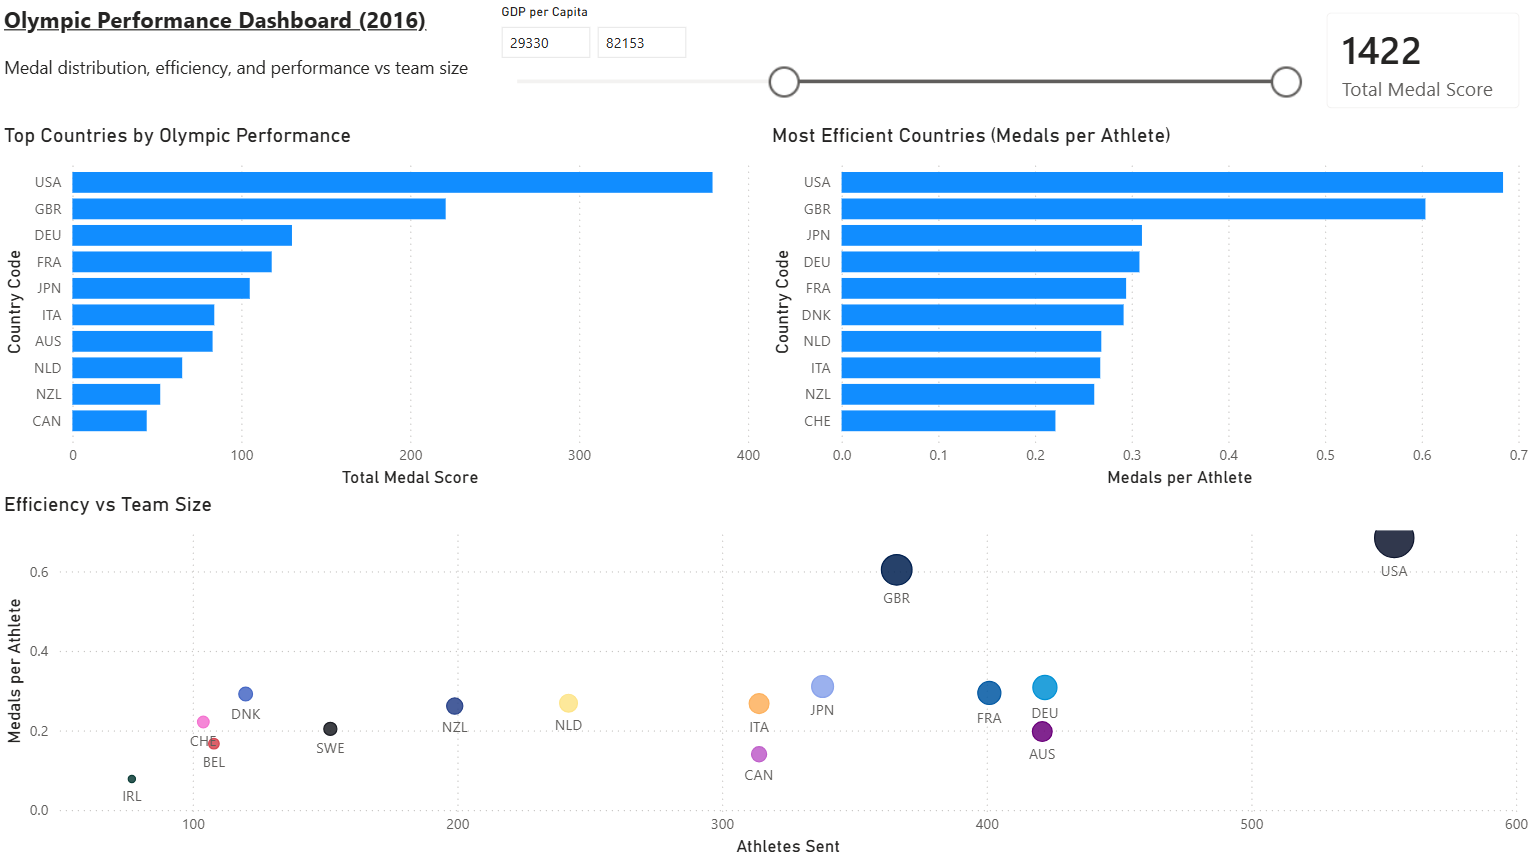

This screenshot's page, from the dashboard's own definition file:
{"tool":"powerbi","page":{"name":"Page 1","canvas":[1280,720],"ordinal":0},"visuals":[{"type":"clusteredBarChart","title":"Top Countries by Olympic Performance","fields":{"Category":["Cleaned Data.country_code"],"Y":["Sum(Cleaned Data.medal_score)"]},"box":[0,104,640,308],"z":0},{"type":"cardVisual","fields":{"Data":["Sum(Cleaned Data.medal_score)"]},"box":[1095,0,185,104],"z":1000},{"type":"clusteredBarChart","title":"Most Efficient Countries (Medals per Athlete)","fields":{"Category":["Cleaned Data.country_code"],"Y":["Cleaned Data.Medals per Athlete"]},"box":[640,104,640,308],"z":2000},{"type":"slicer","fields":{"Values":["Cleaned Data.gdp_per_capita"]},"box":[407,0,688,104],"z":2001},{"type":"scatterChart","title":"Efficiency vs Team Size","fields":{"X":["Sum(Cleaned Data.athletes_sent)"],"Y":["Cleaned Data.Medals per Athlete"],"Size":["Sum(Cleaned Data.medal_score)"],"Series":["Cleaned Data.country_code"]},"box":[0,412,1280,308],"z":2002},{"type":"textbox","box":[0,0,407,104],"z":2003}]}

Visuals, with their boxes in screenshot pixels (x1, y1, x2, y2), scaled from the page's 1280x720 canvas onto the 1532x860 screenshot:
"Top Countries by Olympic Performance" clusteredBarChart: {"left": 0, "top": 124, "right": 766, "bottom": 492}
cardVisual - Sum(Cleaned Data.medal_score): {"left": 1311, "top": 0, "right": 1531, "bottom": 124}
"Most Efficient Countries (Medals per Athlete)" clusteredBarChart: {"left": 766, "top": 124, "right": 1531, "bottom": 492}
slicer - Cleaned Data.gdp_per_capita: {"left": 487, "top": 0, "right": 1311, "bottom": 124}
"Efficiency vs Team Size" scatterChart: {"left": 0, "top": 492, "right": 1531, "bottom": 859}
textbox: {"left": 0, "top": 0, "right": 487, "bottom": 124}
